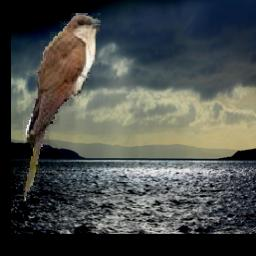Cuckoo: (22, 14, 103, 203)
